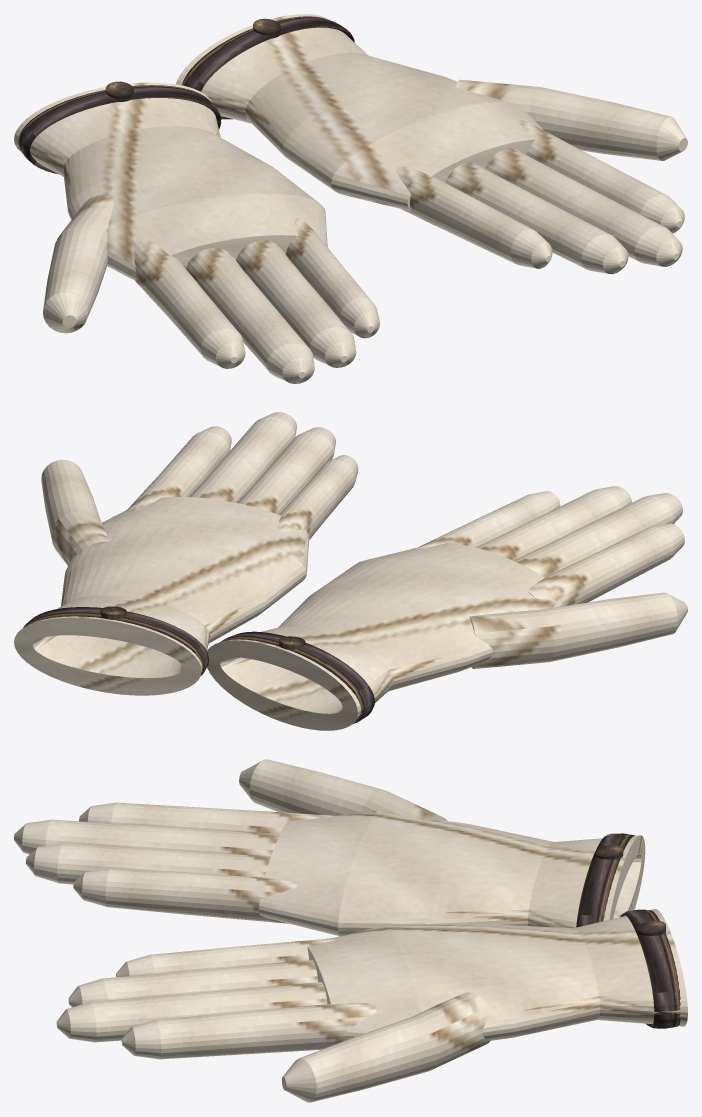
The picture shows the model from 3 angles, top to bottom: view 1: azimuth 30°, elevation 25°; view 2: azimuth 150°, elevation 25°; view 3: azimuth 270°, elevation 25°; orthographic projection. The views are drawn at different scales.
Visible parts, largest first — view 1: right_palm_cuff, left_palm_cuff, right_thumb, left_finger_1, right_finger_1, right_finger_2, right_finger_3, left_finger_0, left_thumb, left_finger_2, right_finger_0, left_finger_3 (+2 smaller); view 2: right_palm_cuff, left_palm_cuff, left_thumb, left_finger_0, left_finger_1, right_thumb, right_finger_1, left_finger_2, right_finger_2, right_finger_0, right_finger_3, left_finger_3 (+2 smaller); view 3: left_palm_cuff, right_palm_cuff, right_thumb, right_finger_0, left_finger_3, right_finger_1, left_thumb, left_finger_1, left_finger_2, right_finger_2, left_finger_0, right_finger_3 (+2 smaller).
Boxes of the visible parts, x1,y1,x2,y2 form: right_palm_cuff: [176, 14, 543, 210]; left_palm_cuff: [14, 82, 327, 280]; right_thumb: [455, 79, 687, 160]; left_finger_1: [186, 248, 314, 383]; right_finger_1: [485, 148, 682, 266]; right_finger_2: [445, 162, 628, 274]; right_finger_3: [396, 166, 552, 268]; left_finger_0: [133, 239, 245, 368]; left_thumb: [43, 195, 114, 333]; left_finger_2: [236, 240, 356, 367]; right_finger_0: [518, 120, 684, 233]; left_finger_3: [286, 218, 379, 338]; right_palm_cuff: [14, 497, 309, 695]; left_palm_cuff: [207, 543, 563, 730]; left_thumb: [469, 592, 687, 668]; left_finger_0: [528, 523, 684, 605]; left_finger_1: [513, 493, 682, 577]; right_thumb: [41, 459, 108, 565]; right_finger_1: [189, 412, 296, 502]; left_finger_2: [475, 486, 631, 560]; right_finger_2: [237, 427, 335, 514]; right_finger_0: [126, 426, 231, 511]; right_finger_3: [278, 455, 358, 539]; left_finger_3: [413, 491, 560, 550]; left_palm_cuff: [259, 812, 645, 936]; right_palm_cuff: [307, 909, 687, 1040]; right_thumb: [281, 992, 490, 1102]; right_finger_0: [121, 1003, 376, 1059]; left_finger_3: [73, 868, 299, 923]; right_finger_1: [56, 982, 327, 1042]; left_thumb: [239, 759, 447, 820]; left_finger_1: [14, 819, 279, 855]; left_finger_2: [26, 843, 270, 884]; right_finger_2: [68, 960, 318, 1007]; left_finger_0: [79, 802, 333, 833]; right_finger_3: [116, 937, 341, 977].
Size of the model in its own units: 81 by 10.55 by 71.7.
Materials: 4 (4 with a texture image).
